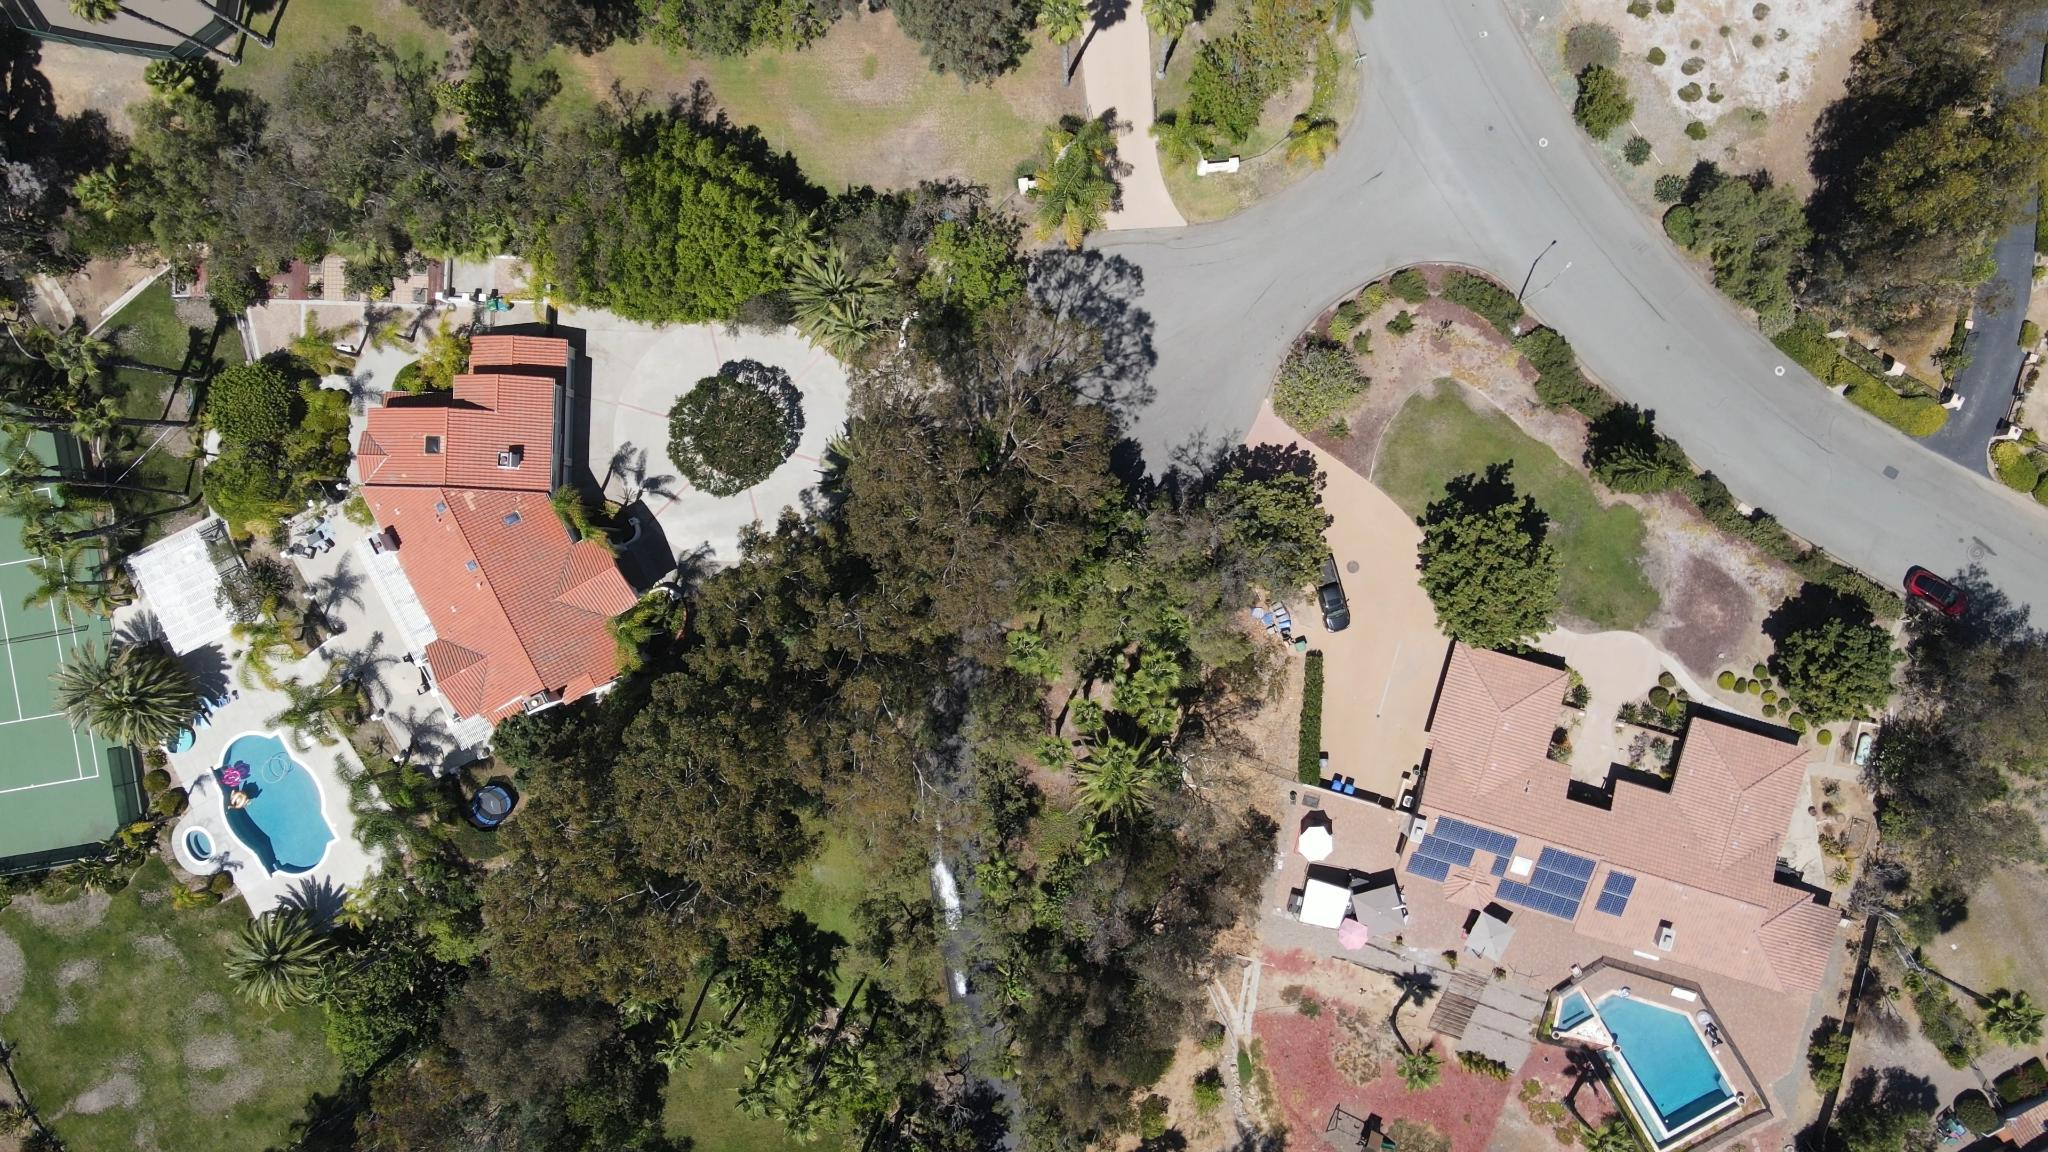solar-panels: (1405, 814, 1520, 883), (1495, 845, 1596, 921), (1594, 870, 1637, 917)
